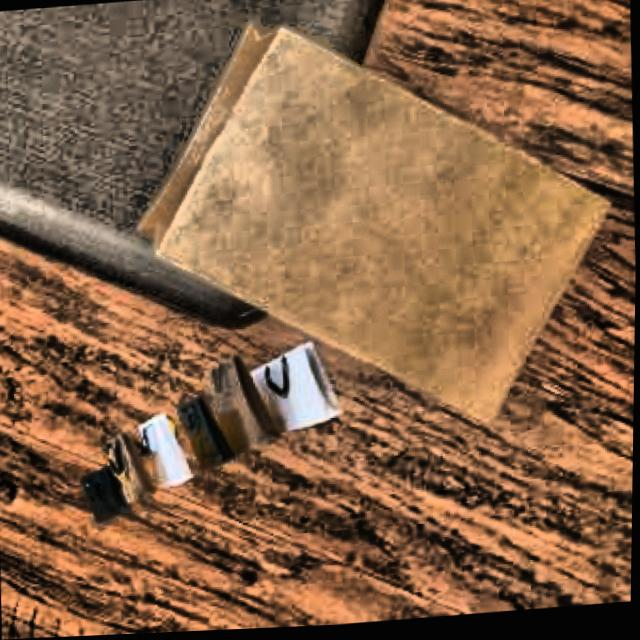Paper-bag: (108, 0, 627, 467), (62, 330, 359, 534)
